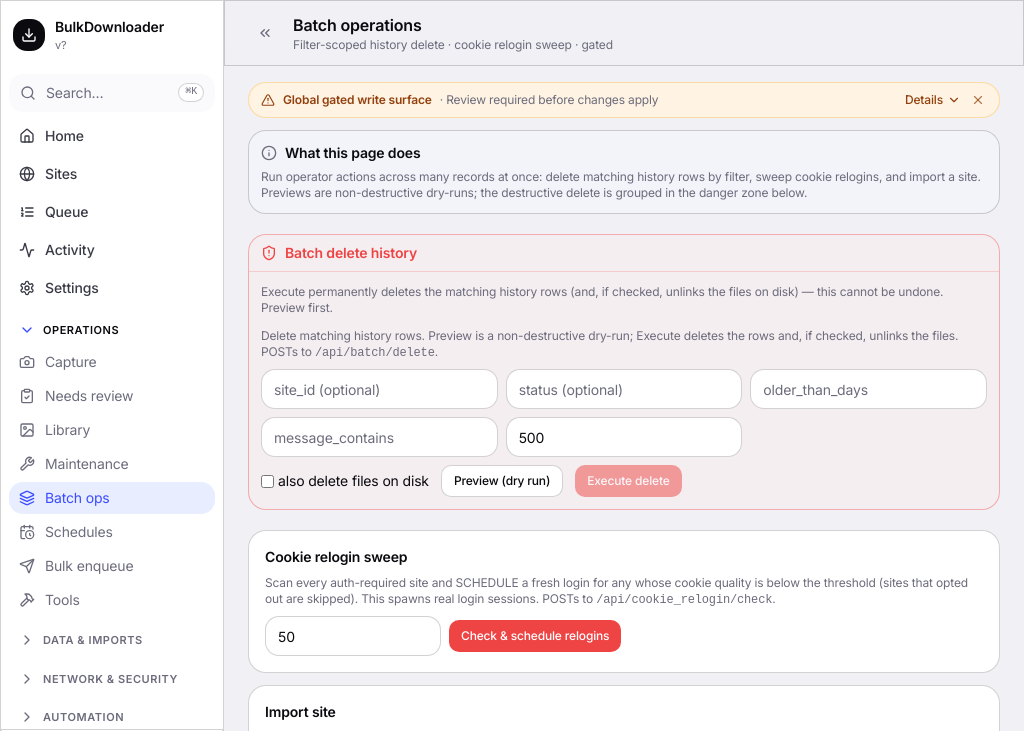
Scenario: BatchOps executes only the previewed filter (dsq-batch-ops F4) › "1e2" is not a whole number: Preview and Execute are blocked, nothing is sent as 1
Type "1e2" into the field with placeholder "older_than_days" at (869, 389), box [750,369,987,409]
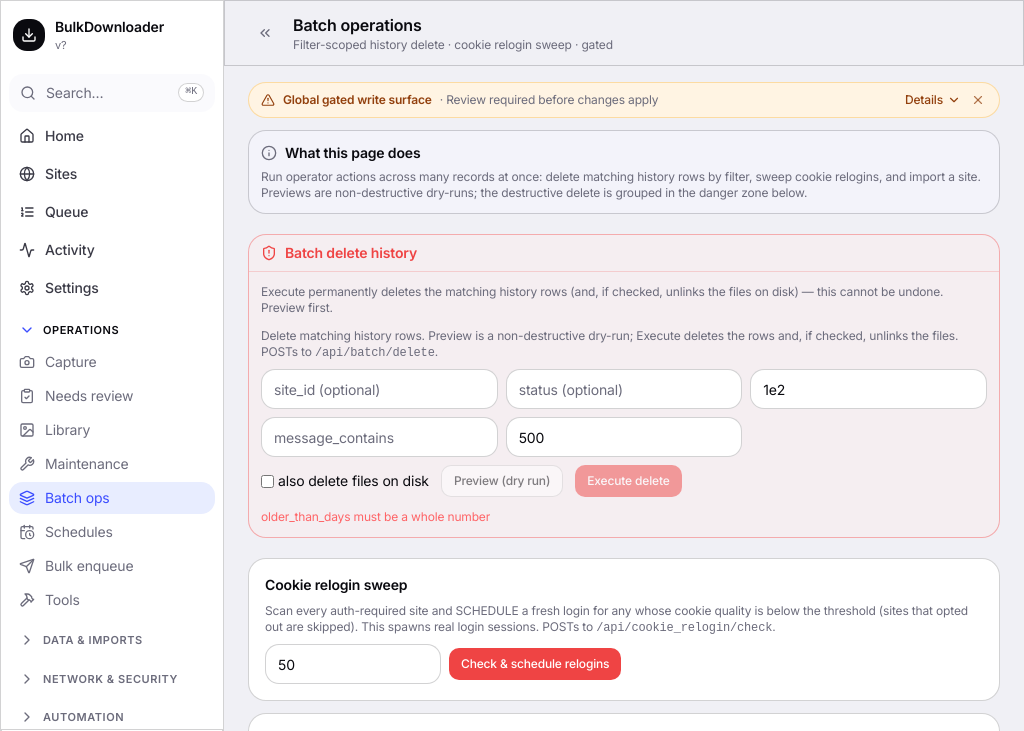
Expected: the button "Execute delete" is disabled, [575,465,682,497]
Now the button "Preview (dry run)" is disabled, box [441,465,563,497]
Now the message reads "older_than_days must be a whole number", box [261,509,490,524]
Clear the 1st field with placeholder "older_than_days" at (869, 389), box [750,369,987,409]
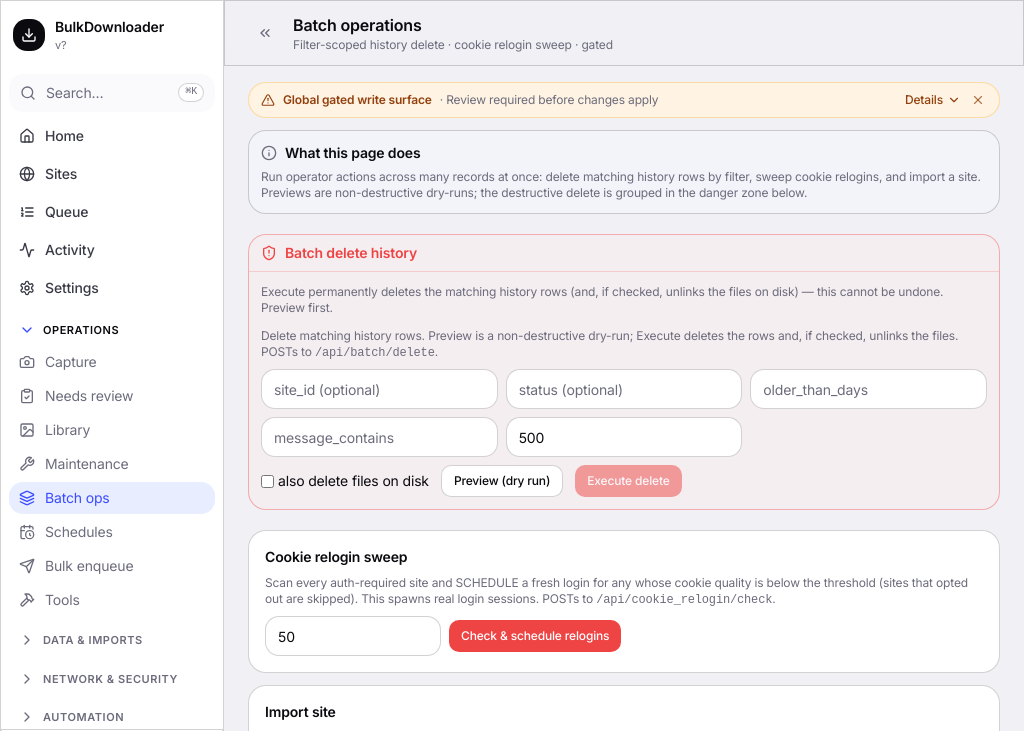
Replace the text in the field with placeholder "limit" below "/api/batch/delete" with "1e2" at (624, 437), box [506,417,742,457]
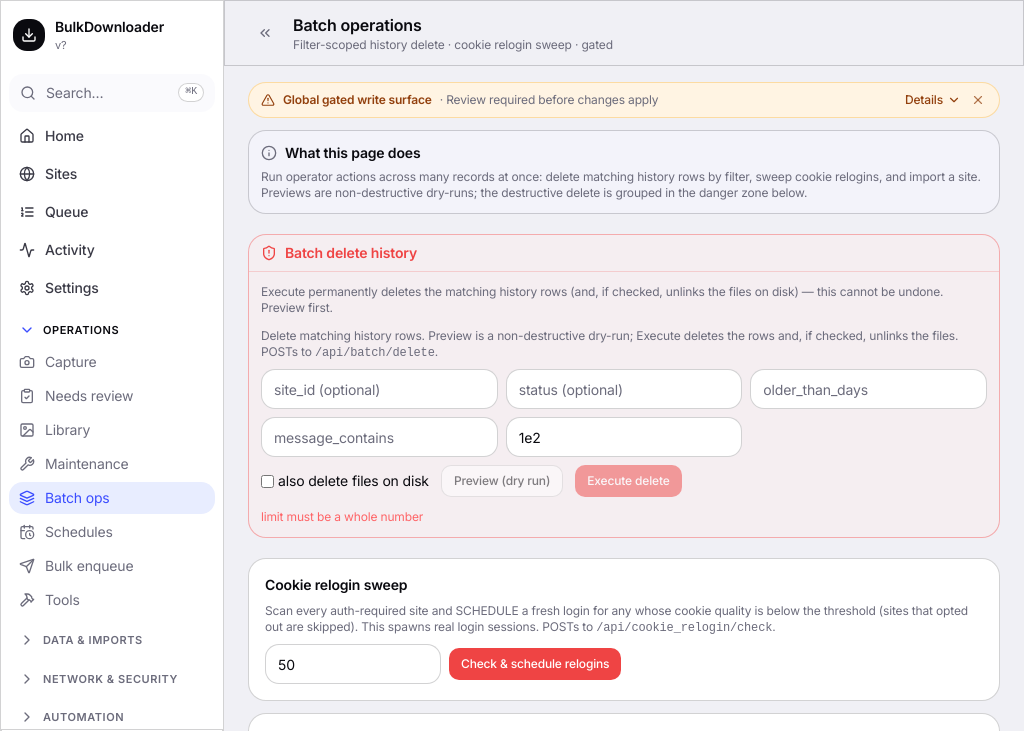
Now the button "Preview (dry run)" is disabled, box [441,465,563,497]
Now the message reads "limit must be a whole number", box [261,509,423,524]
